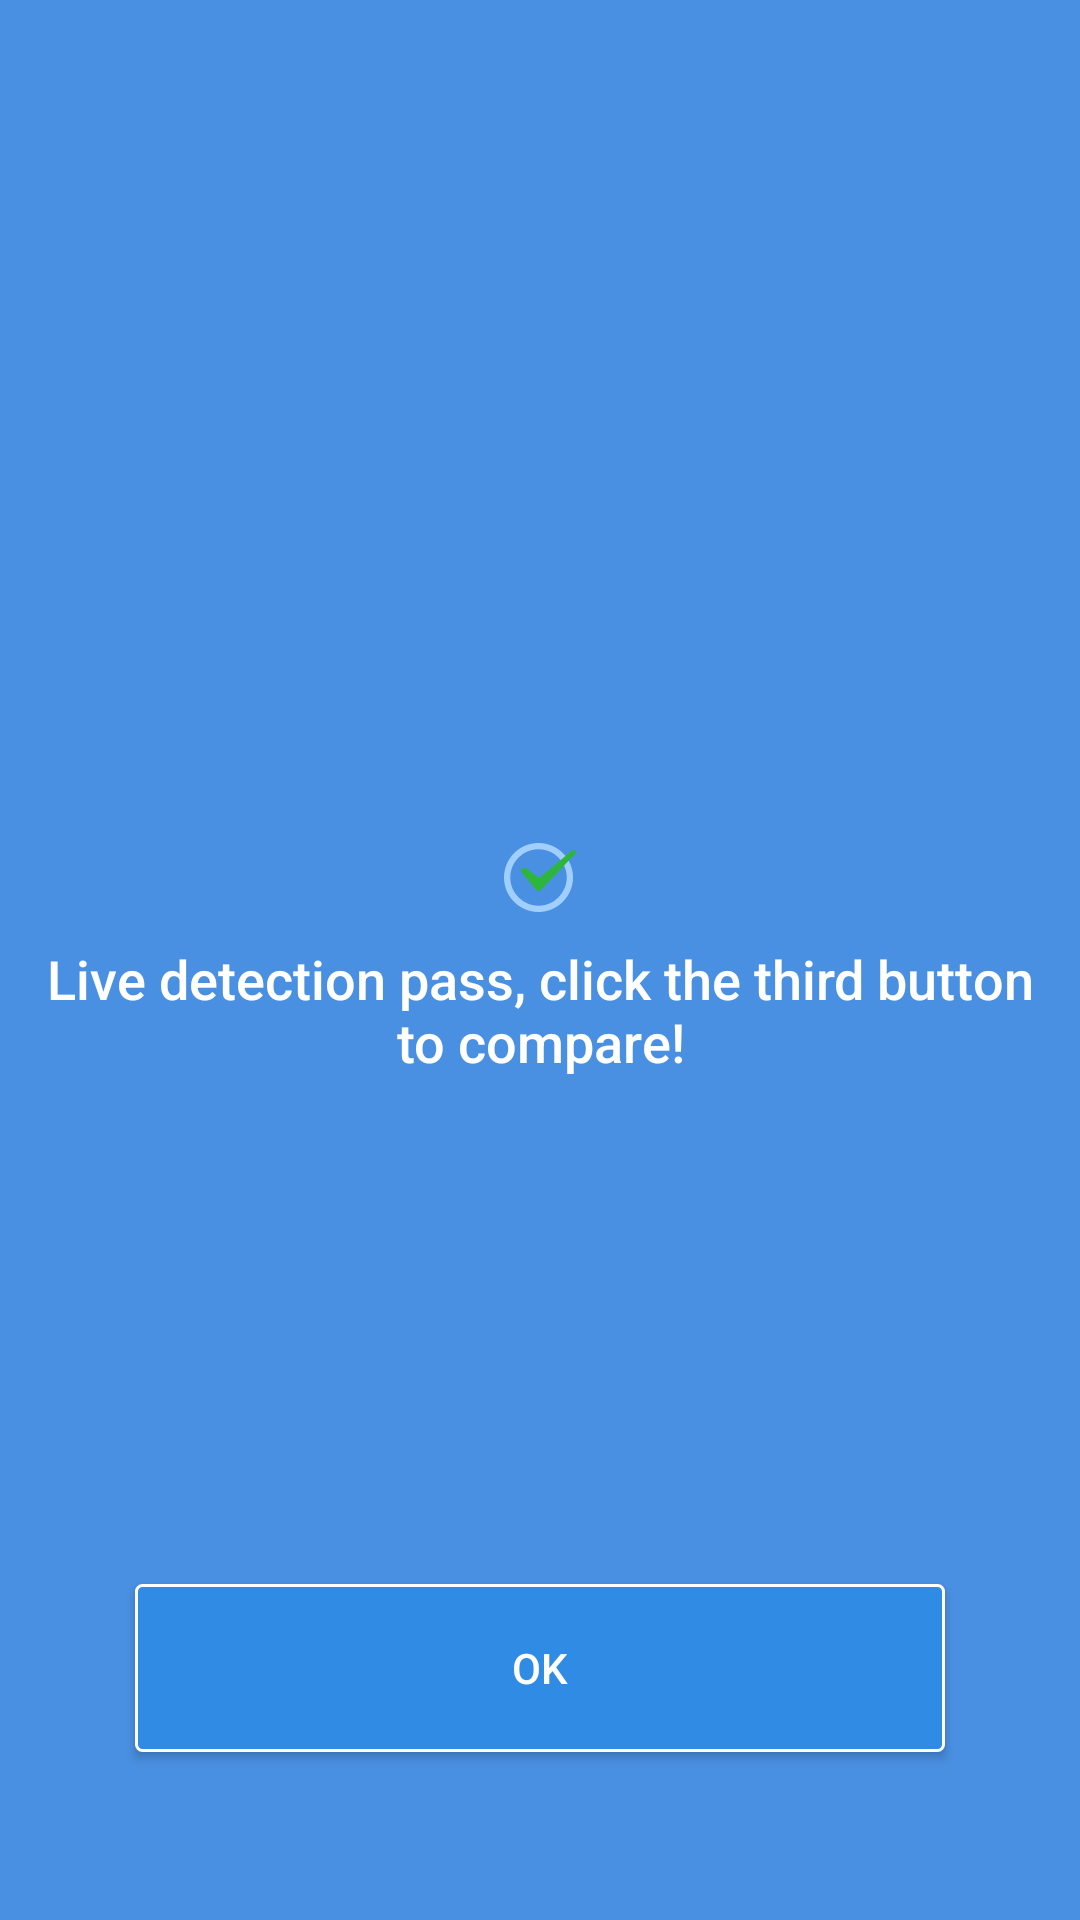

Locate icon controls on the screen. Image size 1080w x 1920h, boxes as (x1, y1, x2, y2).
result status ok: (504, 843, 576, 912)
